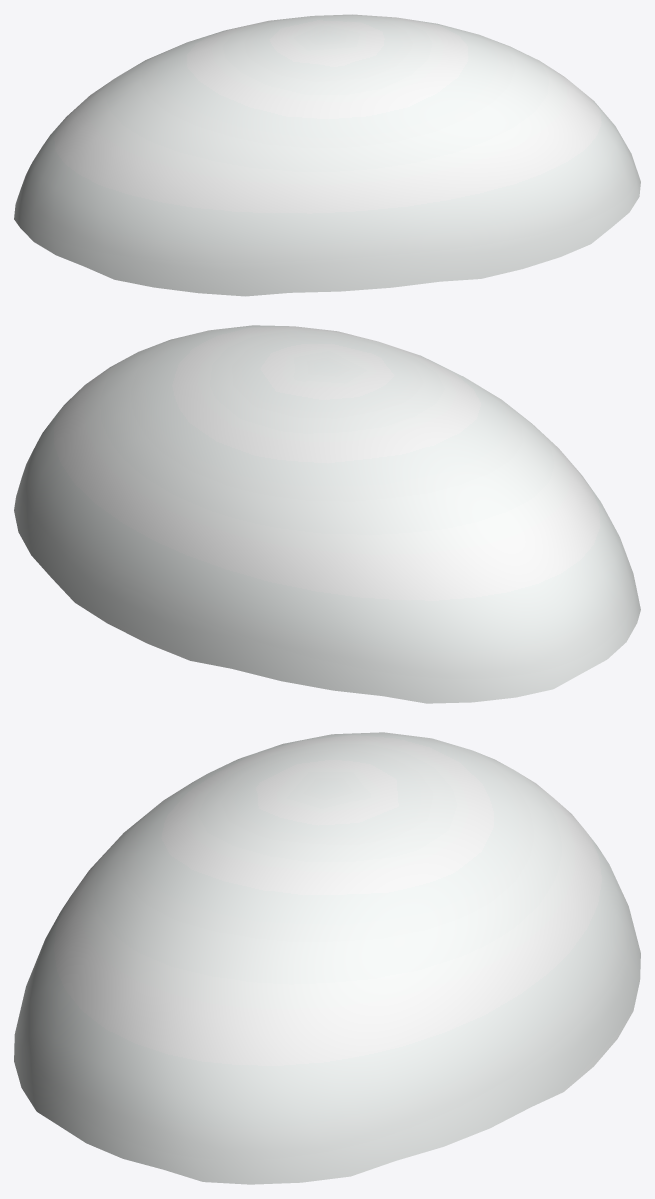
The model's file is MAGICFRONTIER_OUT.glb.
The picture shows the model from 3 angles, top to bottom: view 1: azimuth 30°, elevation 25°; view 2: azimuth 150°, elevation 25°; view 3: azimuth 270°, elevation 25°; orthographic projection. The views are drawn at different scales.
Parts seen in each view (by area): view 1: Mesh; view 2: Mesh; view 3: Mesh.
Boxes of the visible parts, x1,y1,x2,y2 form: Mesh: [14, 14, 640, 296]; Mesh: [14, 325, 640, 703]; Mesh: [14, 732, 640, 1184].
Size of the model in its own units: 1437 by 428 by 1091.
1 material, 1 textured.
